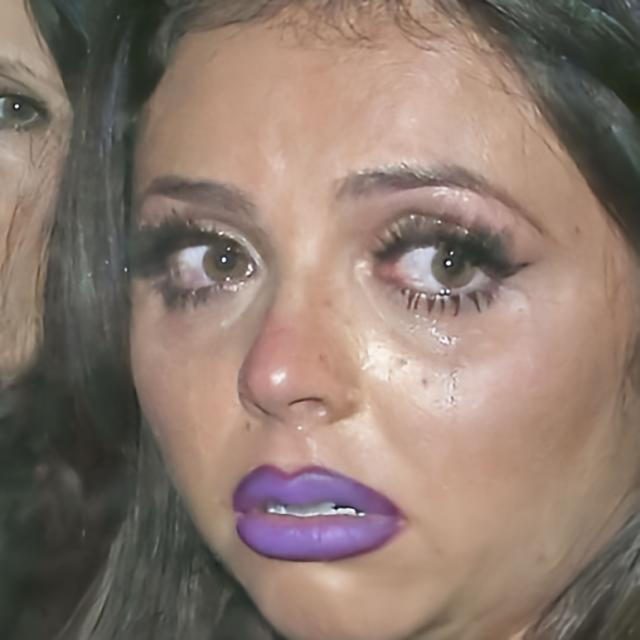sad: (128, 0, 640, 640), (0, 0, 75, 401)
